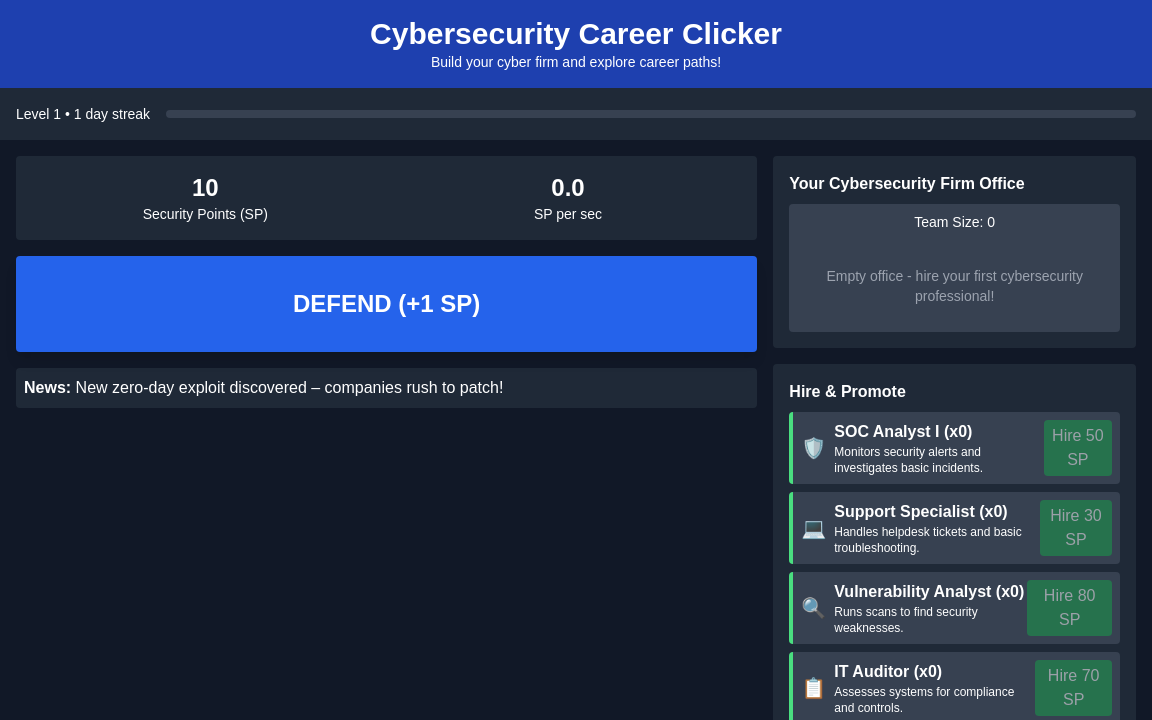
CyberClickerGame - Middle School Engagement › should show progress milestones at regular intervals
This screenshot has width=1152, height=720.
Click the button "DEFEND (+1 SP)" at (387, 304), box x1=16 y1=256 x2=757 y2=352
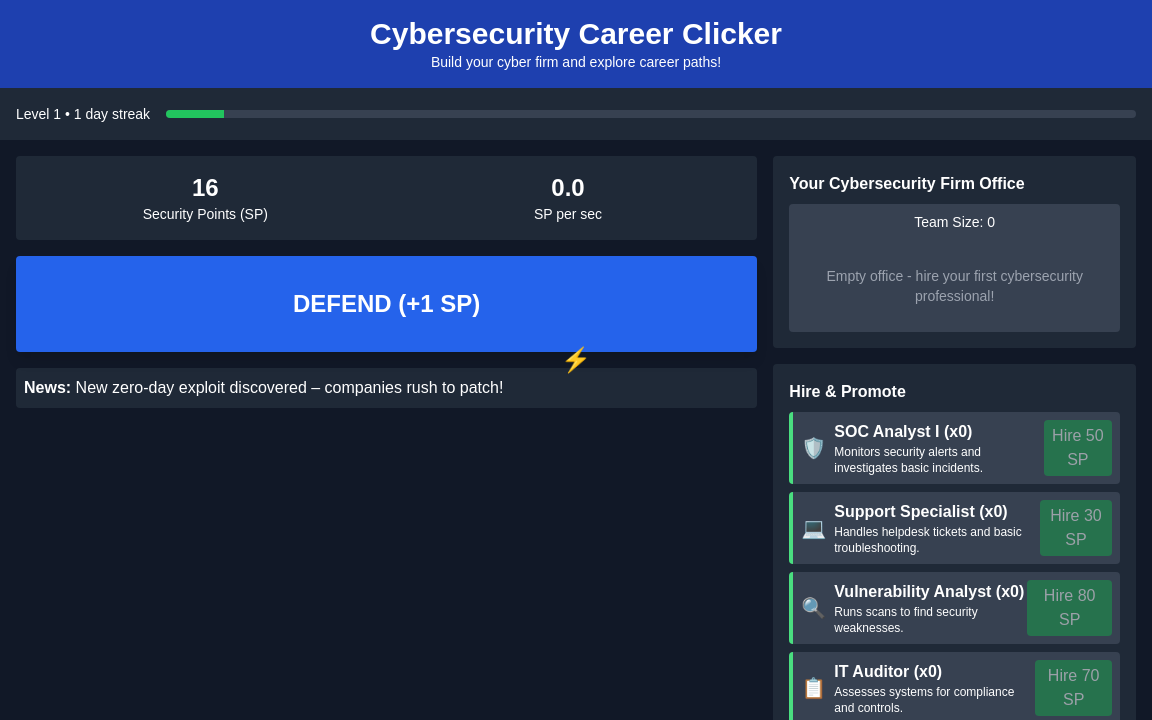
Click the button "DEFEND (+1 SP)" at (387, 304), box x1=16 y1=256 x2=757 y2=352
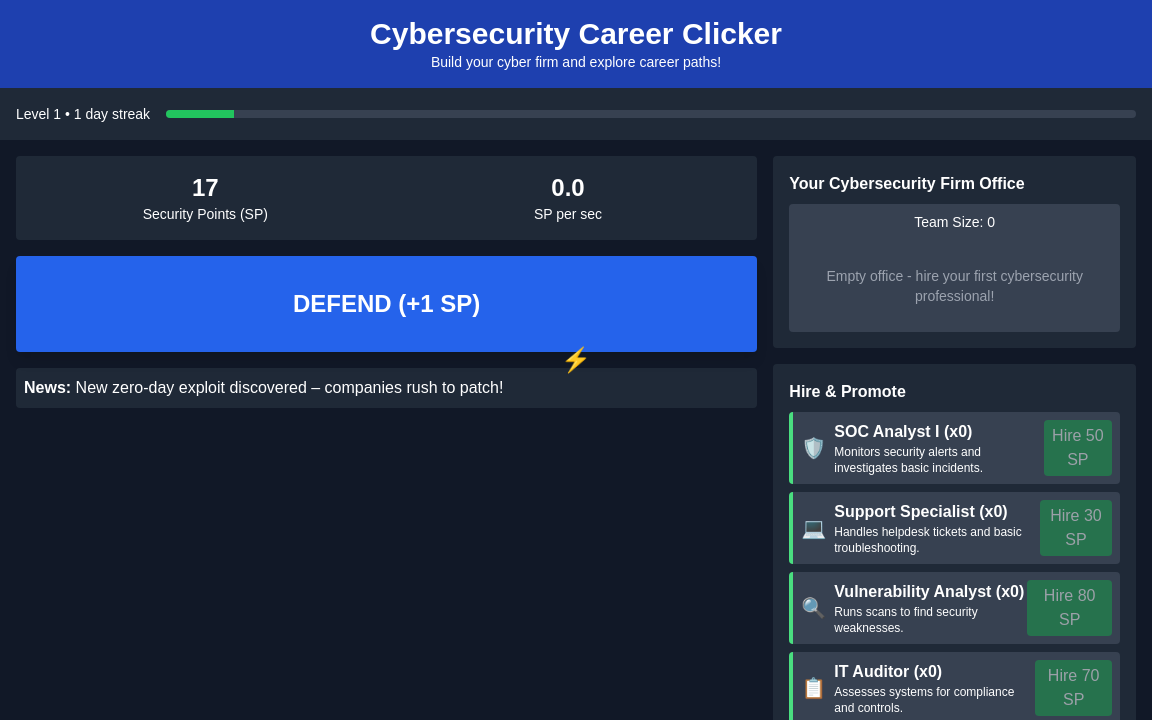
Click the button "DEFEND (+1 SP)" at (387, 304), box x1=16 y1=256 x2=757 y2=352
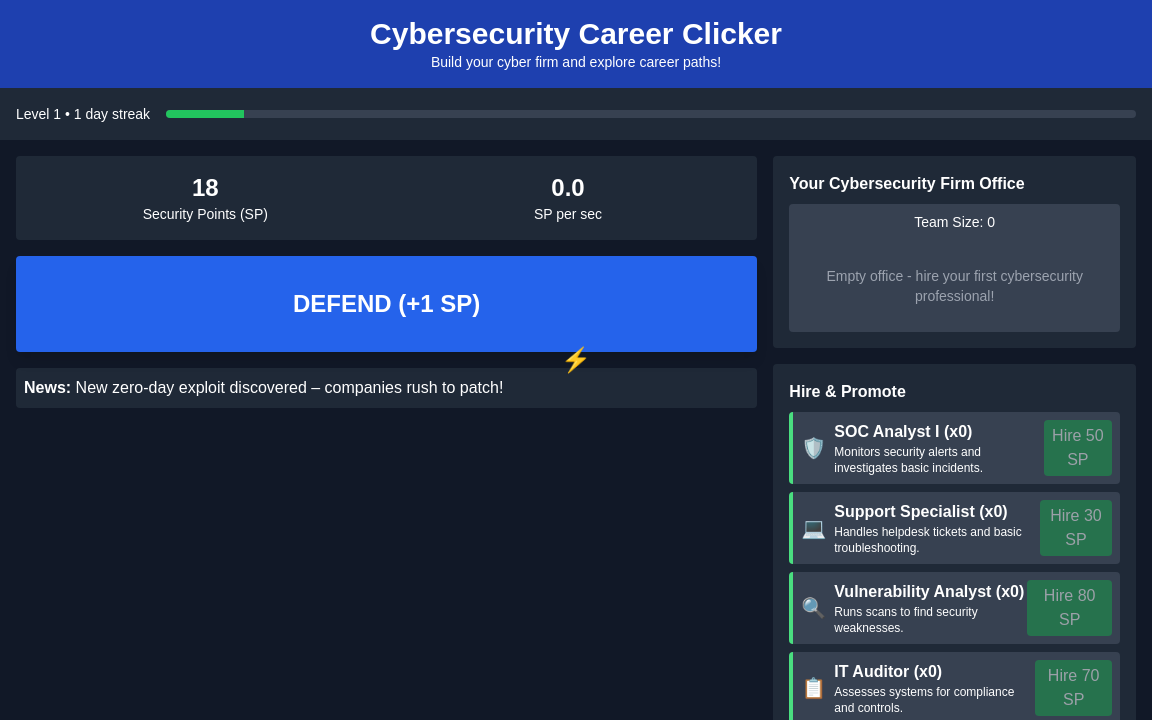
Click the button "DEFEND (+1 SP)" at (387, 304), box x1=16 y1=256 x2=757 y2=352
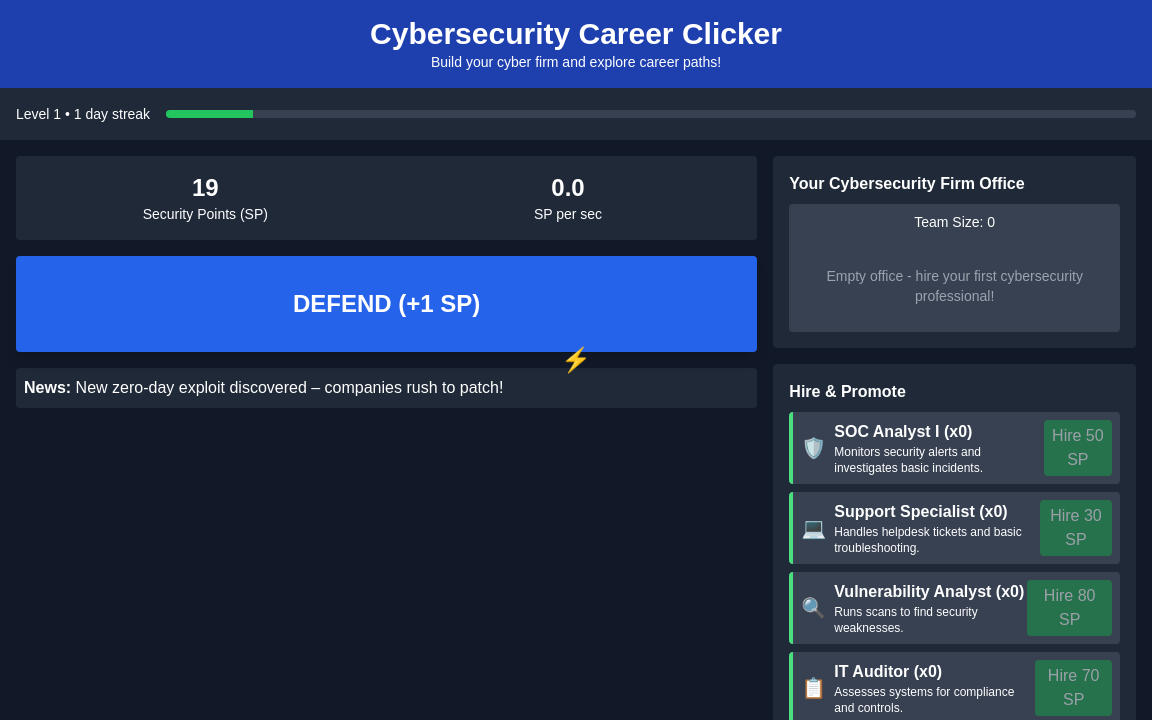
Click the button "DEFEND (+1 SP)" at (387, 304), box x1=16 y1=256 x2=757 y2=352
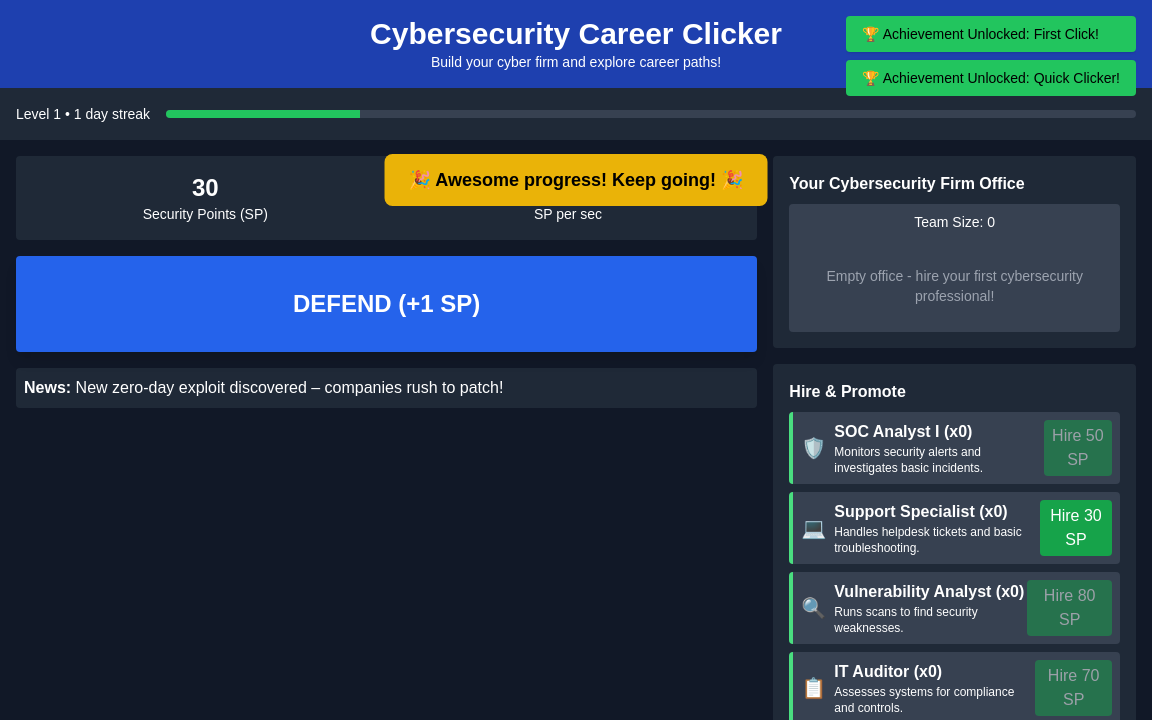
Expected: the element with test id "progress-milestone" is shown, x1=384 y1=154 x2=768 y2=206
Expected: the element with test id "progress-milestone" reads "🎉 Awesome progress! Keep going! 🎉", x1=408 y1=170 x2=744 y2=190
